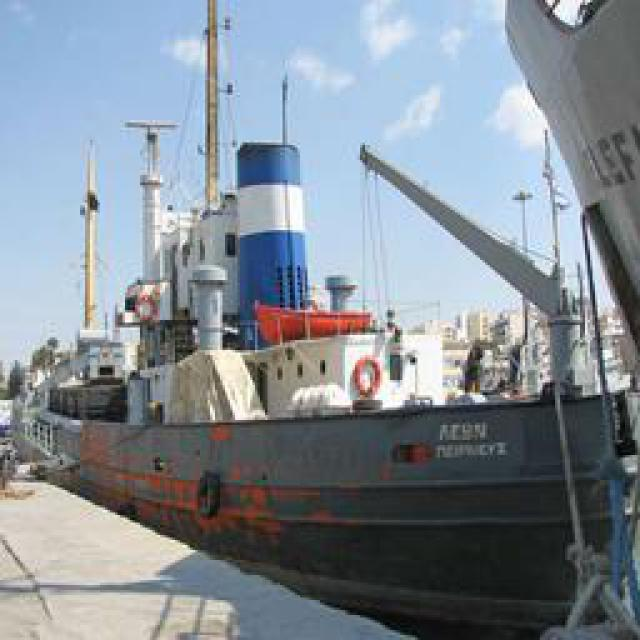Ship: (31, 15, 640, 616)
